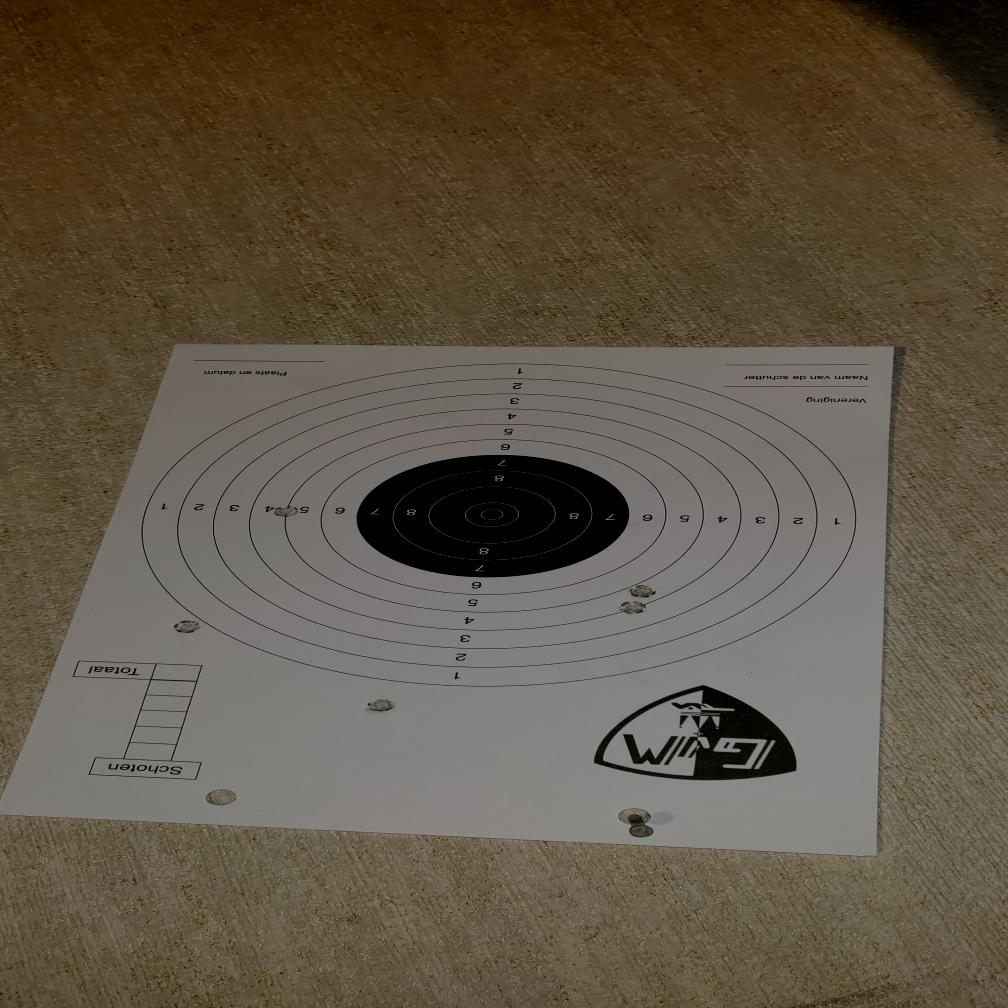0: (361, 696, 397, 713), (171, 619, 203, 635)
4: (618, 602, 648, 615), (626, 584, 656, 597)
5: (272, 506, 297, 517)
Target: (138, 362, 858, 688)
black_contour: (355, 455, 630, 577)
